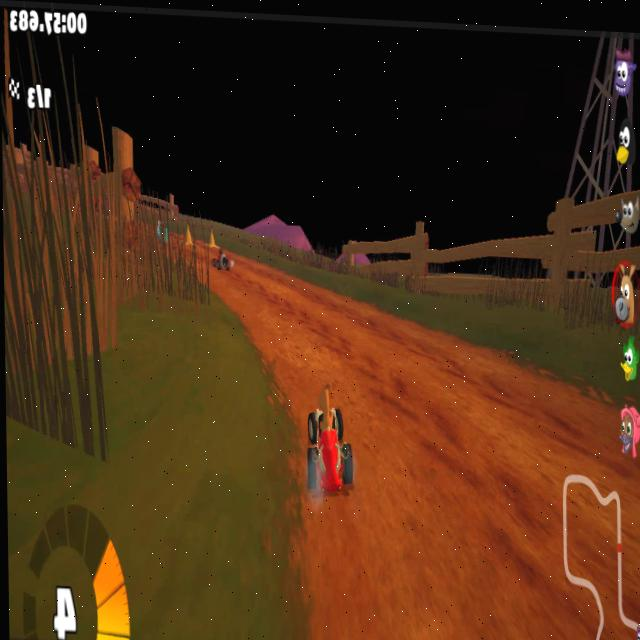obstacle: (181, 222, 194, 258)
player_kart: (299, 383, 355, 522)
track: (351, 375, 595, 640), (267, 335, 511, 375), (311, 524, 351, 640), (251, 287, 315, 337), (217, 272, 282, 303), (321, 315, 406, 338), (313, 294, 370, 308), (235, 261, 262, 268)
